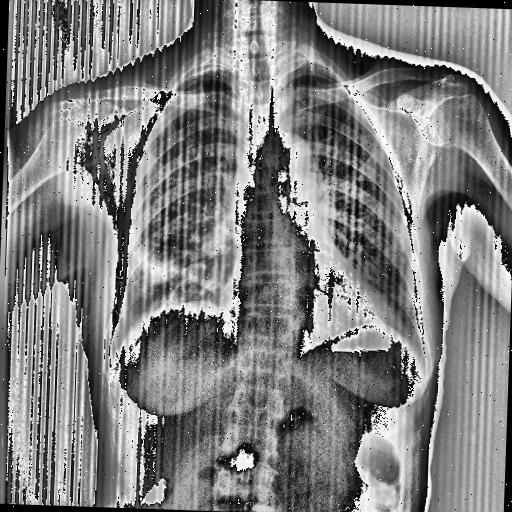13- Pulmonary fibrosis: (140, 292, 188, 306)
4- Consolidation: (126, 239, 181, 296)
7- Lung Opacity: (141, 168, 238, 301), (349, 233, 421, 329), (132, 246, 180, 296), (130, 244, 180, 290)
8- Nodule-Mass: (192, 220, 233, 254), (178, 260, 210, 290)
9- Other lesion: (188, 252, 216, 283)
